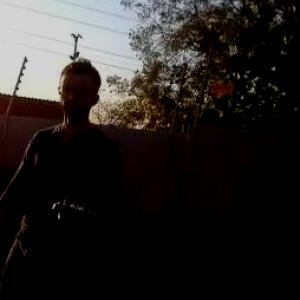follow: (0, 51, 128, 299)
